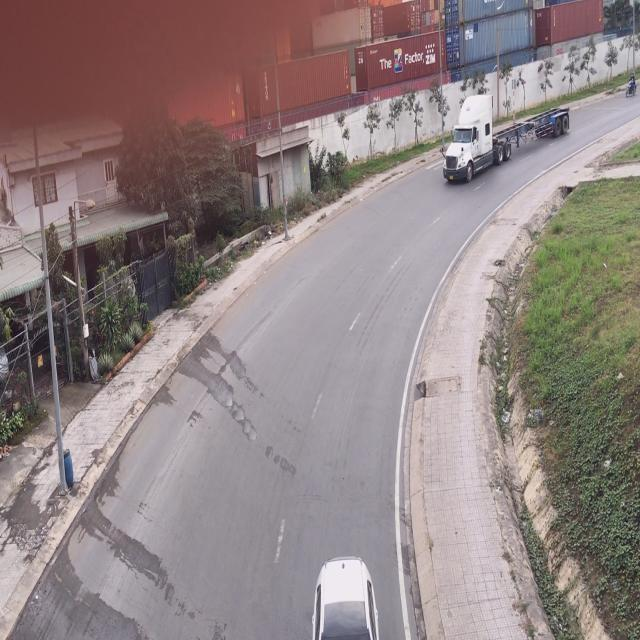car: (311, 554, 379, 640)
motorbike: (626, 72, 636, 100)
truck: (441, 99, 570, 188)
